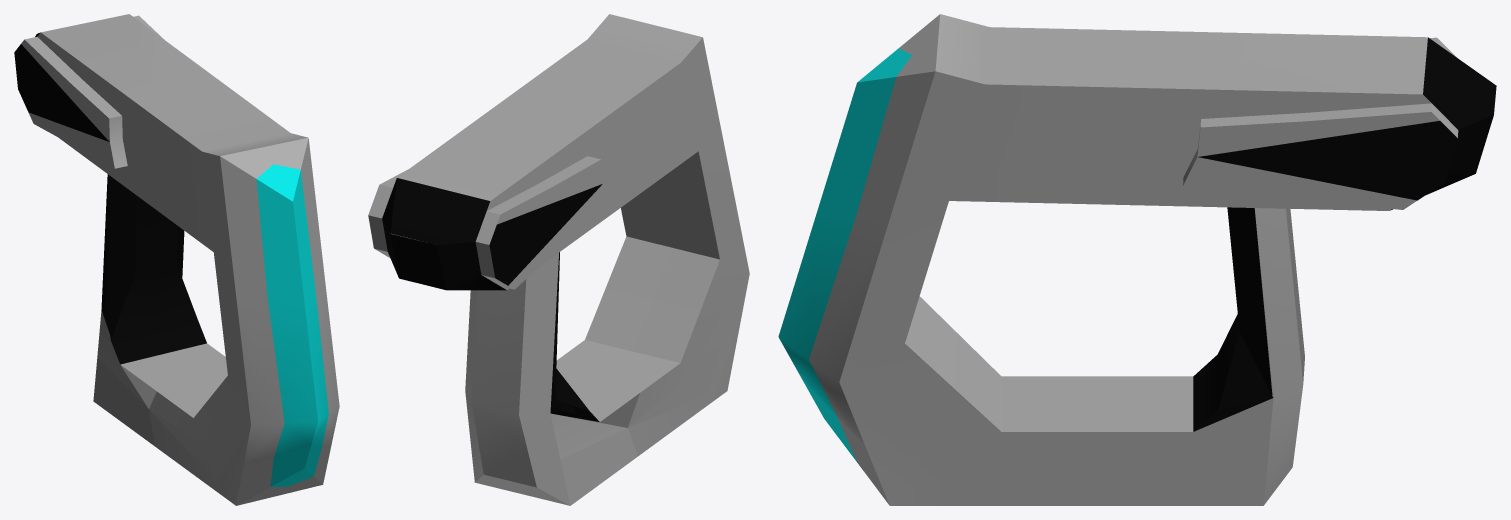
The model's file is Scanner.fbx.
3 renders of one model, left to right at view 1: azimuth 30°, elevation 25°; view 2: azimuth 150°, elevation 25°; view 3: azimuth 270°, elevation 25°, orthographic. The views are drawn at different scales.
Parts seen in each view (by area): view 1: Scanner; view 2: Scanner; view 3: Scanner.
Boxes of the visible parts, x1=… form: Scanner: x1=14, y1=14, x2=339, y2=505; Scanner: x1=368, y1=14, x2=749, y2=505; Scanner: x1=778, y1=14, x2=1496, y2=505.
Bounding box in the file's own units: 9.15 × 25.06 × 37.21.
